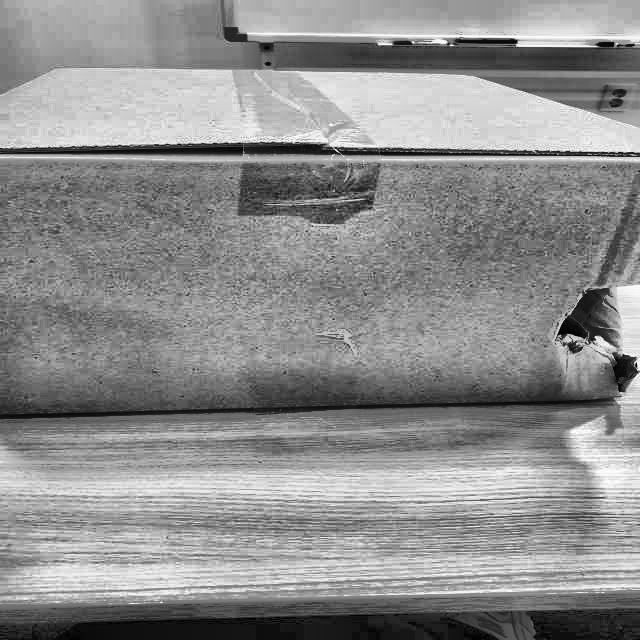box: (0, 51, 639, 432)
hole: (544, 278, 640, 395)
